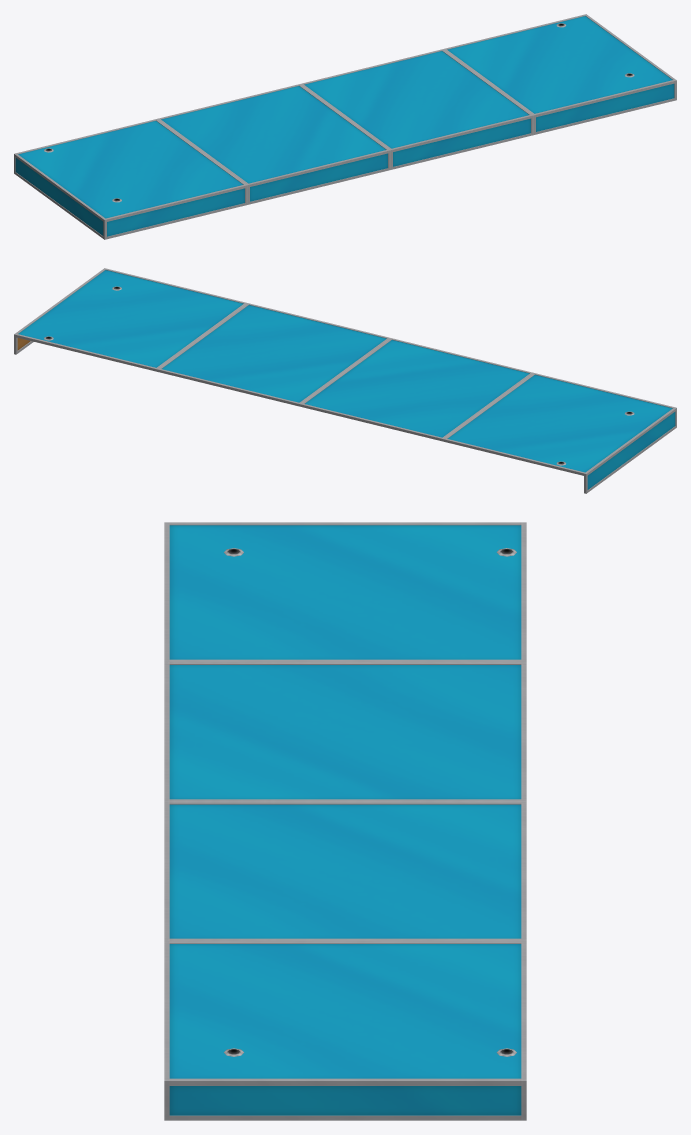
File: jsf_4P_s04_c02_t01_DX.fbx
3 views of the same model, one above another, from view 1: azimuth 30°, elevation 25°; view 2: azimuth 150°, elevation 25°; view 3: azimuth 270°, elevation 25° (orthographic). The views are drawn at different scales.
Parts seen in each view (by area): view 1: jsf_4P_s04_c02_t01_DX; view 2: jsf_4P_s04_c02_t01_DX; view 3: jsf_4P_s04_c02_t01_DX.
Boxes of the visible parts, x1,y1,x2,y2 form: jsf_4P_s04_c02_t01_DX: (14,14,676,239); jsf_4P_s04_c02_t01_DX: (14,268,676,493); jsf_4P_s04_c02_t01_DX: (164,522,526,1120).
Size of the model in its own units: 378 by 12.99 by 104.
